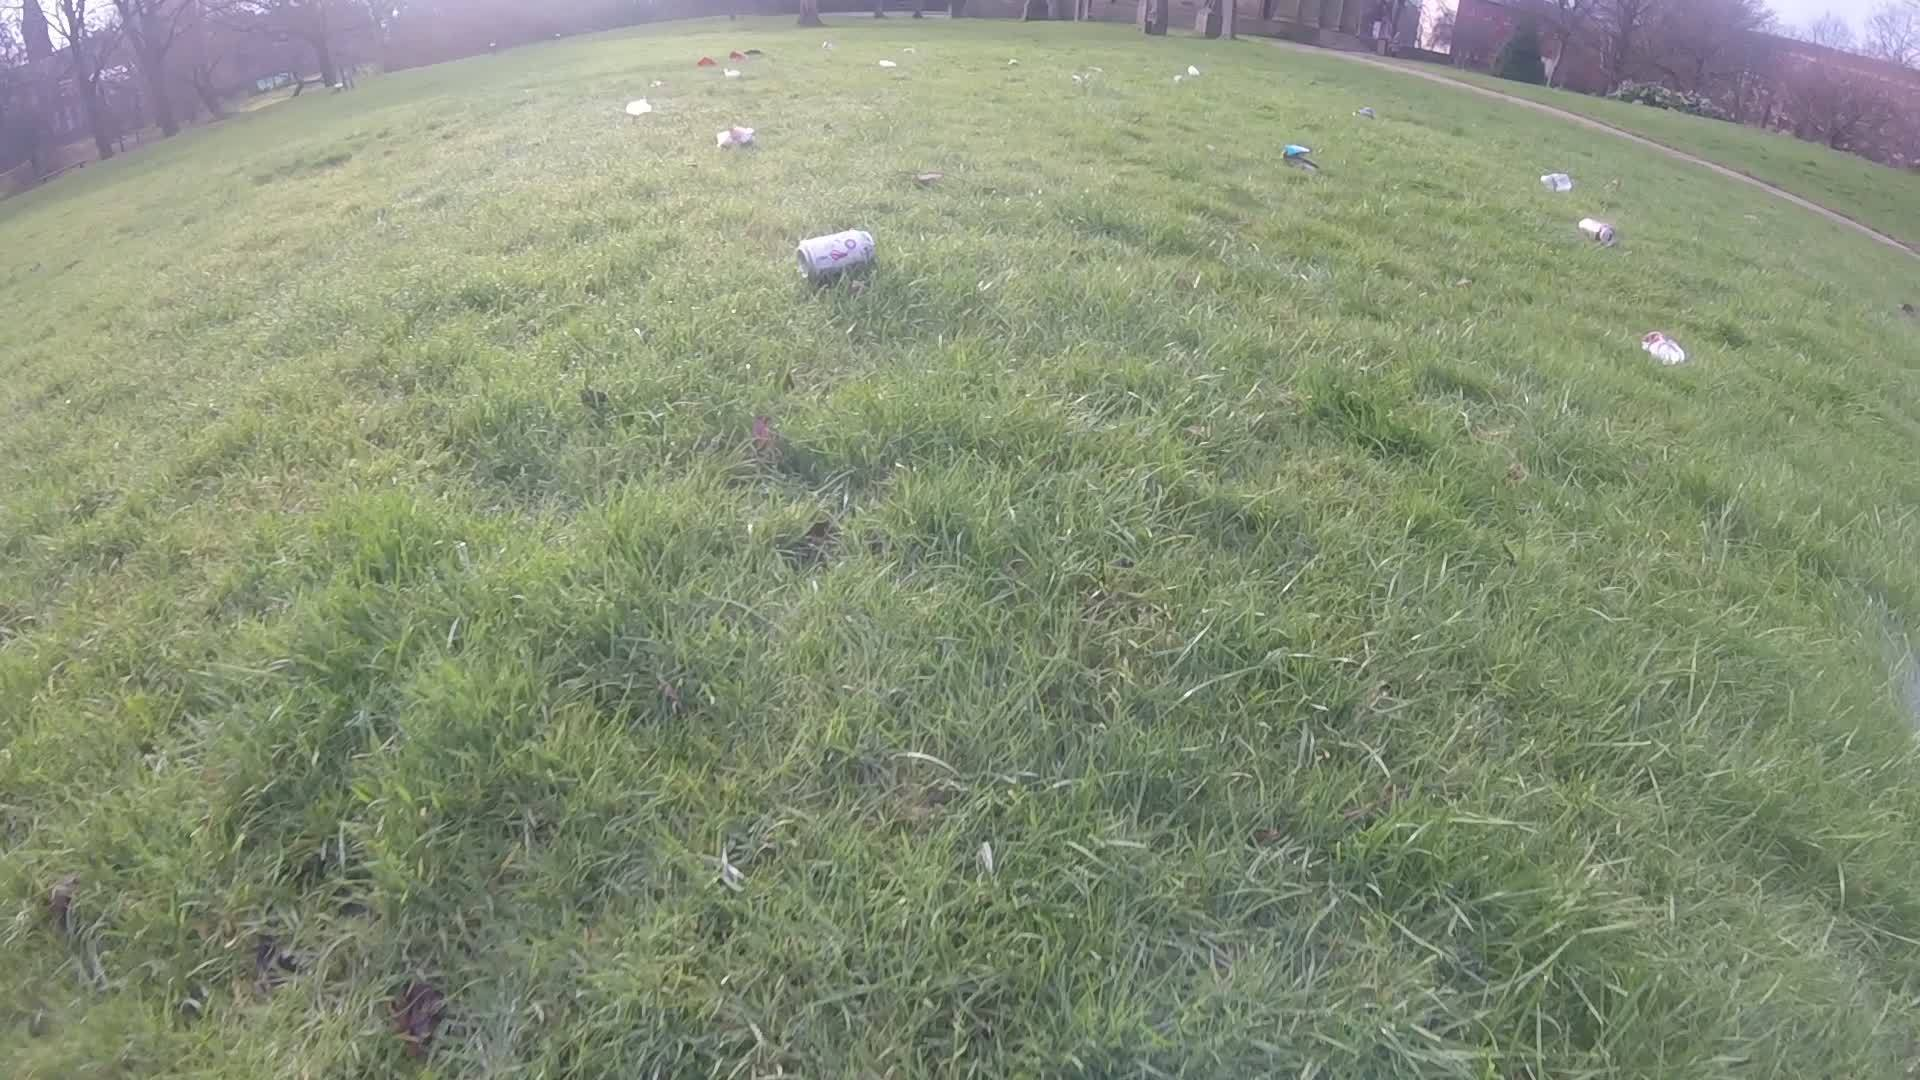litter: (795, 229, 876, 286), (1640, 334, 1683, 371), (1575, 216, 1618, 248), (716, 125, 758, 156), (1280, 142, 1323, 171), (1539, 171, 1571, 194), (621, 96, 653, 117), (1356, 105, 1377, 121), (694, 55, 717, 69), (1182, 62, 1203, 76), (728, 51, 752, 63), (716, 69, 742, 78), (877, 61, 899, 71), (1065, 73, 1083, 84), (745, 47, 766, 57), (822, 37, 833, 53), (898, 44, 916, 51), (1006, 55, 1021, 65), (1174, 71, 1182, 84)
